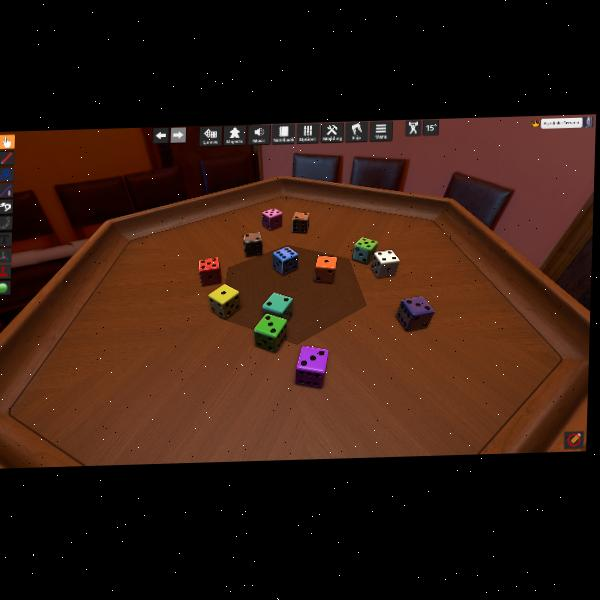d6: (253, 313, 288, 353), (295, 344, 327, 386), (398, 295, 435, 331), (207, 283, 240, 319), (262, 292, 294, 321), (371, 248, 399, 278), (272, 245, 298, 275), (351, 237, 377, 265), (198, 257, 221, 286), (314, 255, 336, 283), (261, 207, 283, 231), (243, 232, 262, 257), (291, 211, 309, 233)
